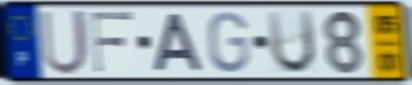8: (321, 8, 366, 76)
A: (150, 12, 206, 73)
F: (89, 10, 135, 75)
G: (206, 10, 251, 75)
U: (38, 7, 91, 77), (265, 8, 318, 77)
